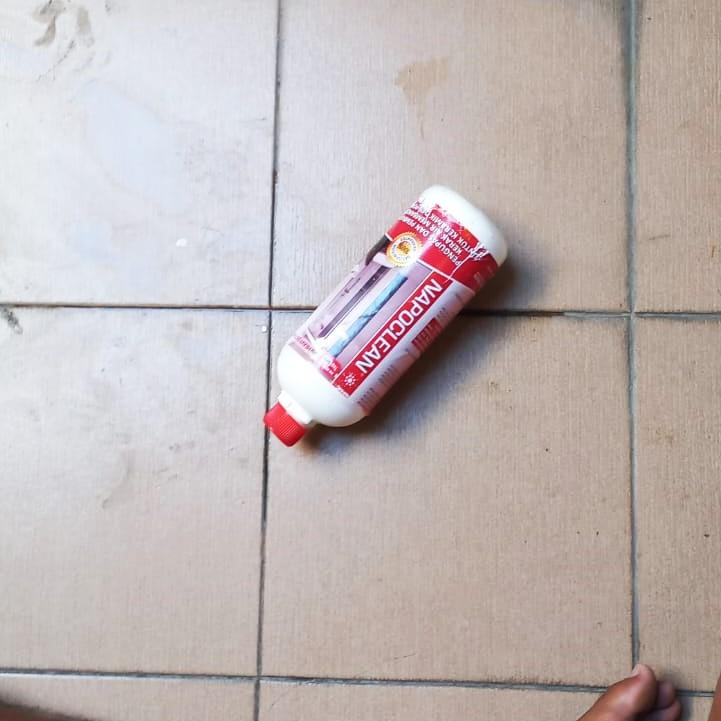Plastik: (262, 183, 508, 448)
